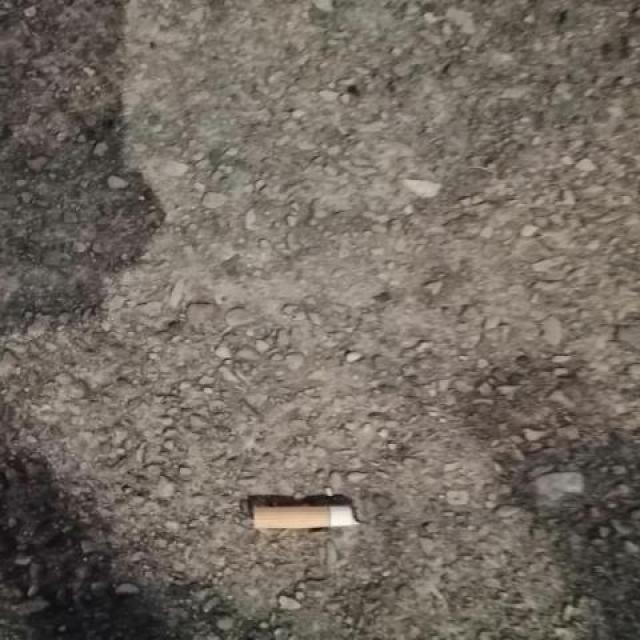non-organic waste: (249, 496, 363, 536)
